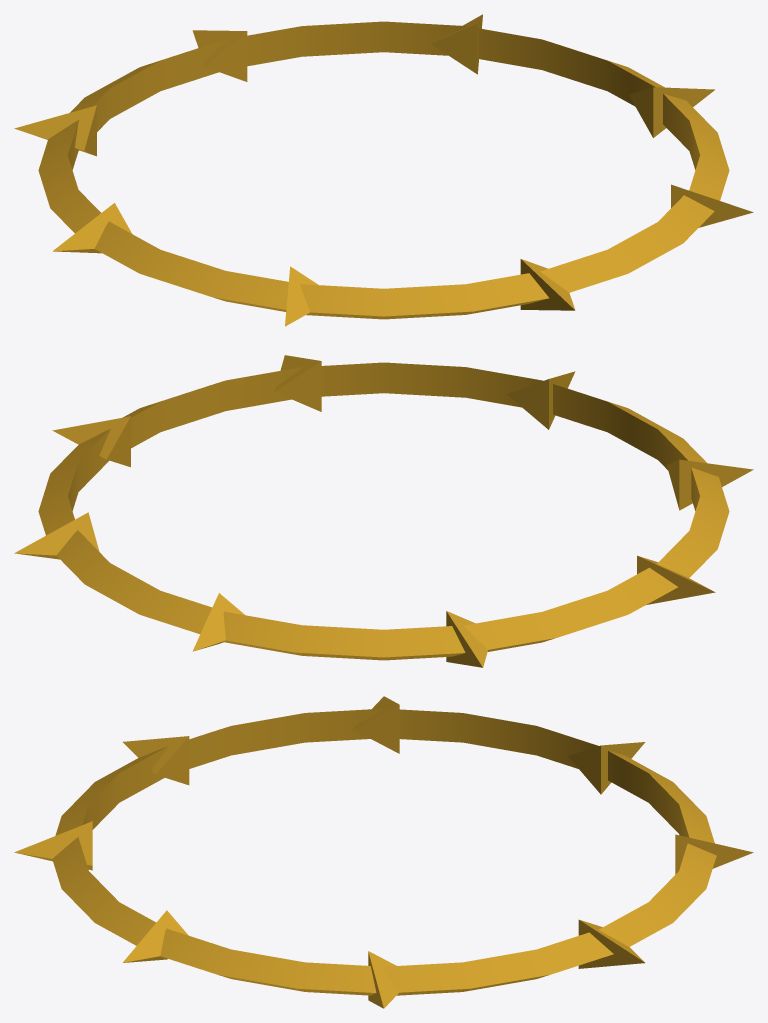
Rendered from fx_elite_aura.glb.
3 views of the same model, one above another, from view 1: azimuth 30°, elevation 25°; view 2: azimuth 150°, elevation 25°; view 3: azimuth 270°, elevation 25° (orthographic). The views are drawn at different scales.
Visible parts, largest first — view 1: body; view 2: body; view 3: body.
Part boxes in pixels (x1=…): body: x1=14, y1=14, x2=753, y2=326; body: x1=14, y1=355, x2=753, y2=667; body: x1=14, y1=696, x2=753, y2=1008.
Bounding box in the file's own units: 2.35 × 0.1732 × 2.35.
